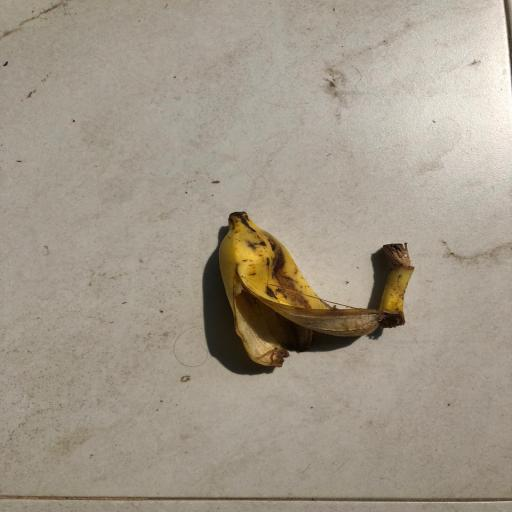waste: (197, 206, 451, 376)
